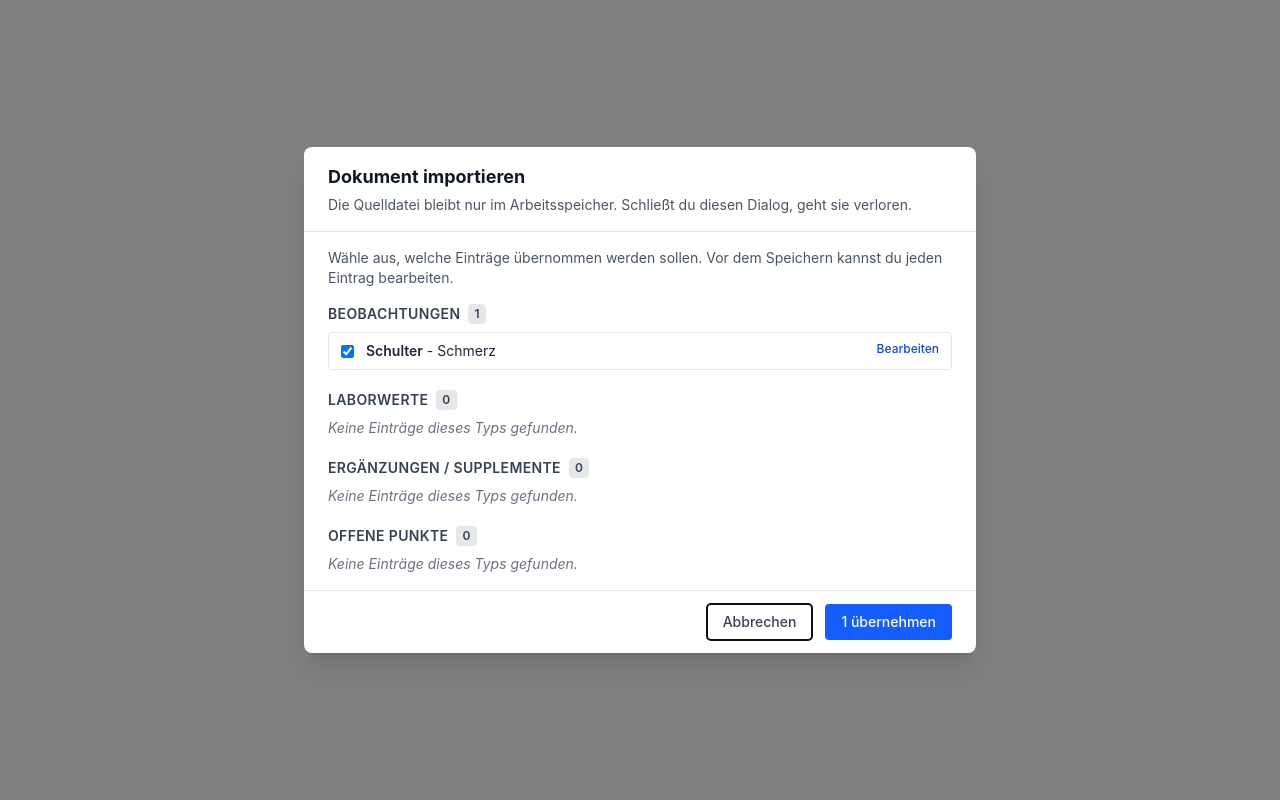
ImportFlow › disables commit button when nothing selected
The width and height of the screenshot is (1280, 800).
expect the element with test id "review-panel" is shown: met, box [328,304,952,574]
Click the checkbox named "select": x=348, y=352 [341,345,354,358]
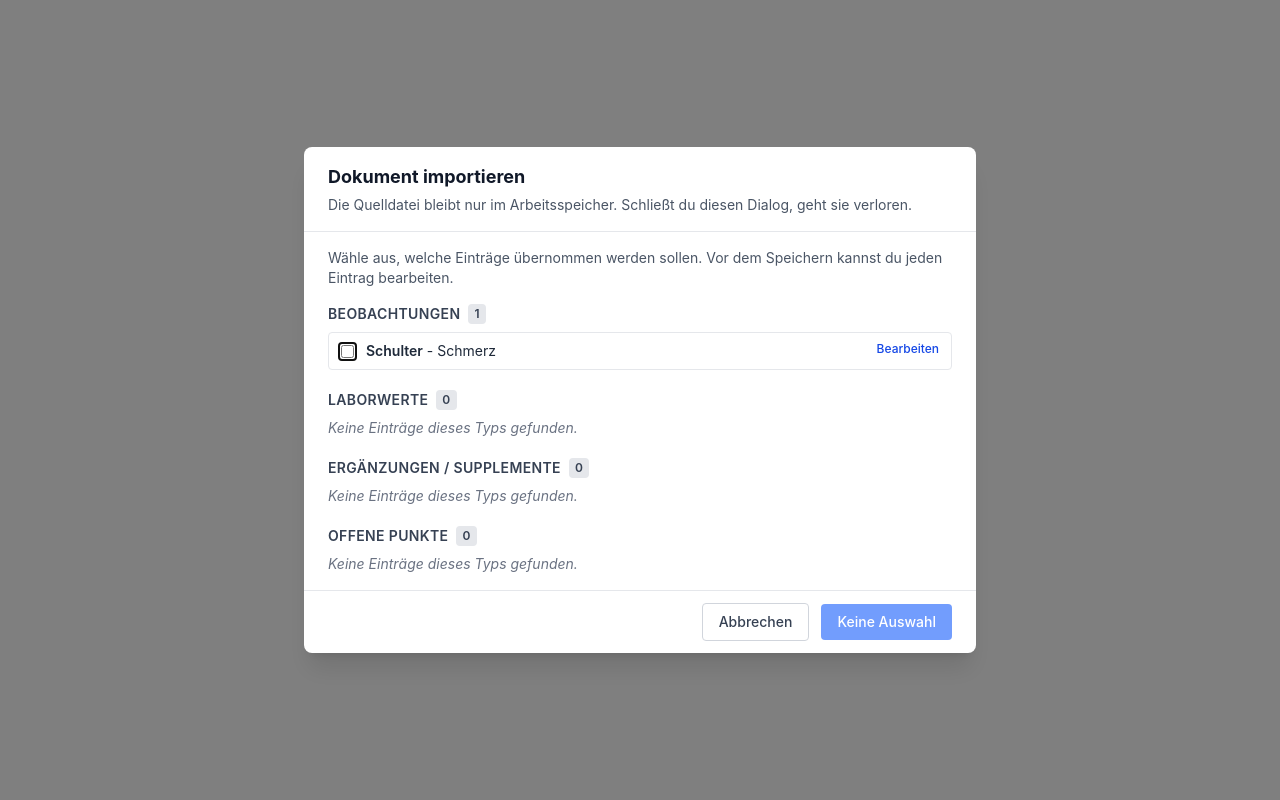
expect the button "Keine Auswahl" is disabled: met, box [821,604,952,640]
